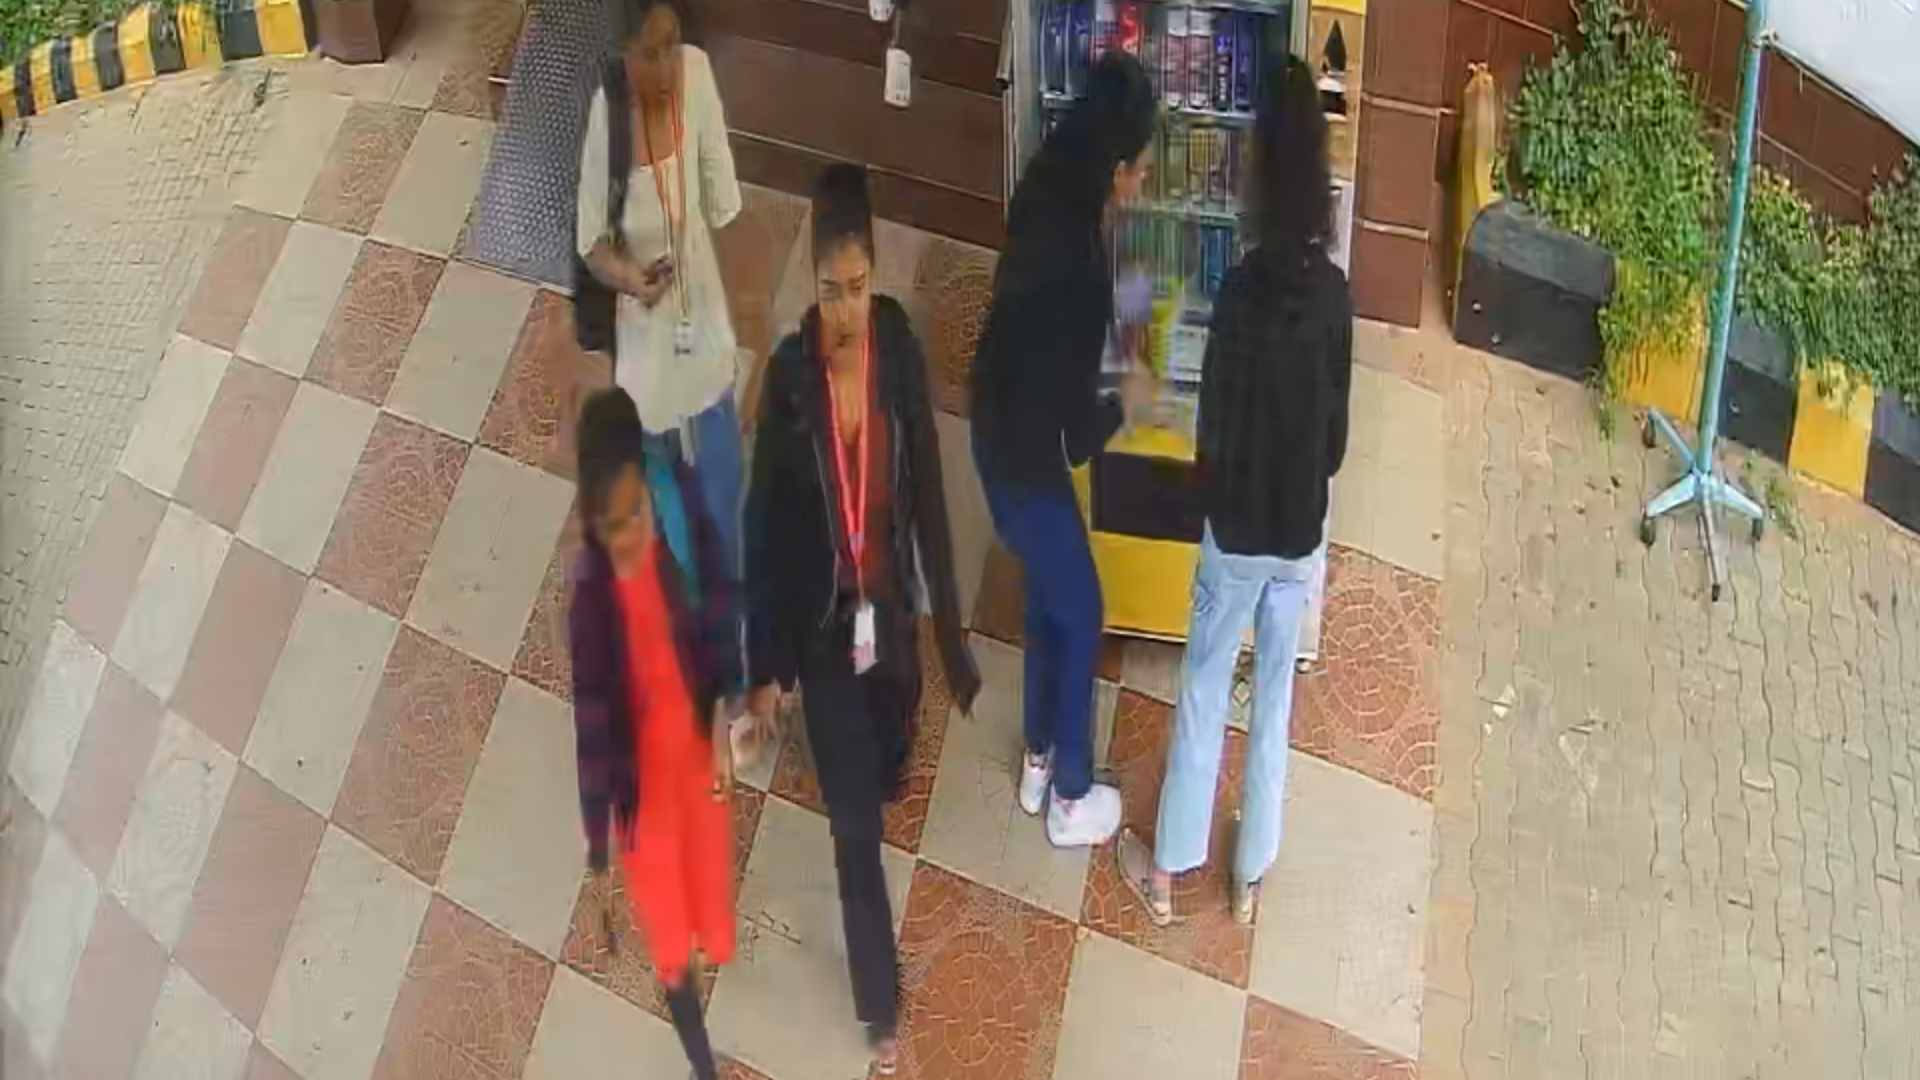intruder: (556, 357, 781, 1080)
not intruder: (764, 175, 939, 1065), (578, 1, 749, 517)
